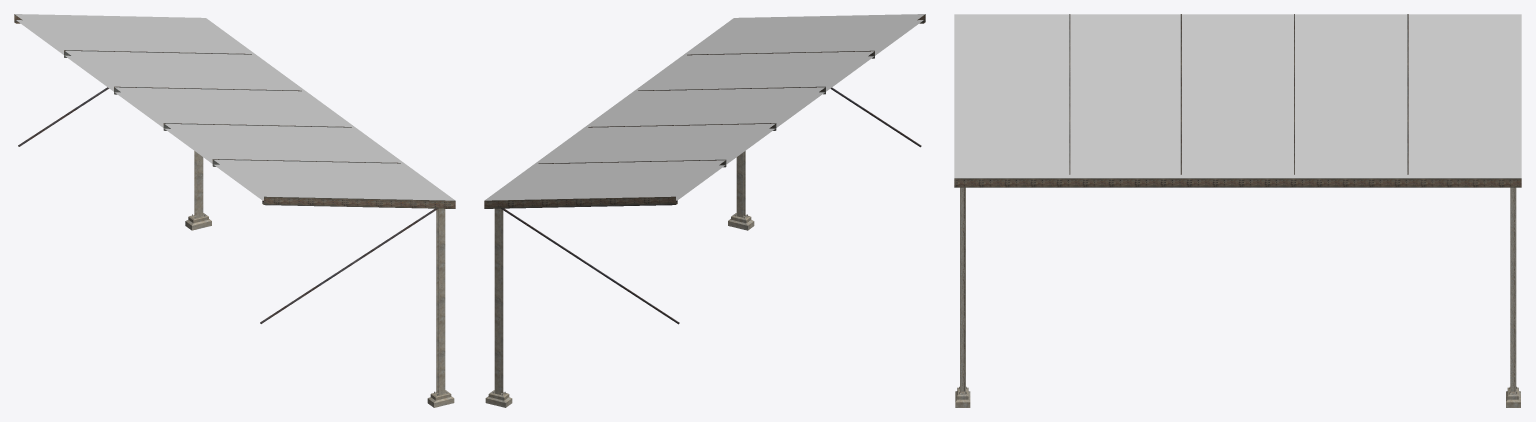
The model's file is AwningA.FBX.
The picture shows the model from 3 angles, left to right: view 1: azimuth 30°, elevation 25°; view 2: azimuth 150°, elevation 25°; view 3: azimuth 270°, elevation 25°; orthographic projection. The views are drawn at different scales.
Visible parts, largest first — view 1: AwningA; view 2: AwningA; view 3: AwningA.
Boxes of the visible parts, x1,y1,x2,y2 form: AwningA: (14,14,455,407); AwningA: (484,14,925,407); AwningA: (954,14,1521,407).
Bounding box in the file's own units: 600 × 759 × 1353.
